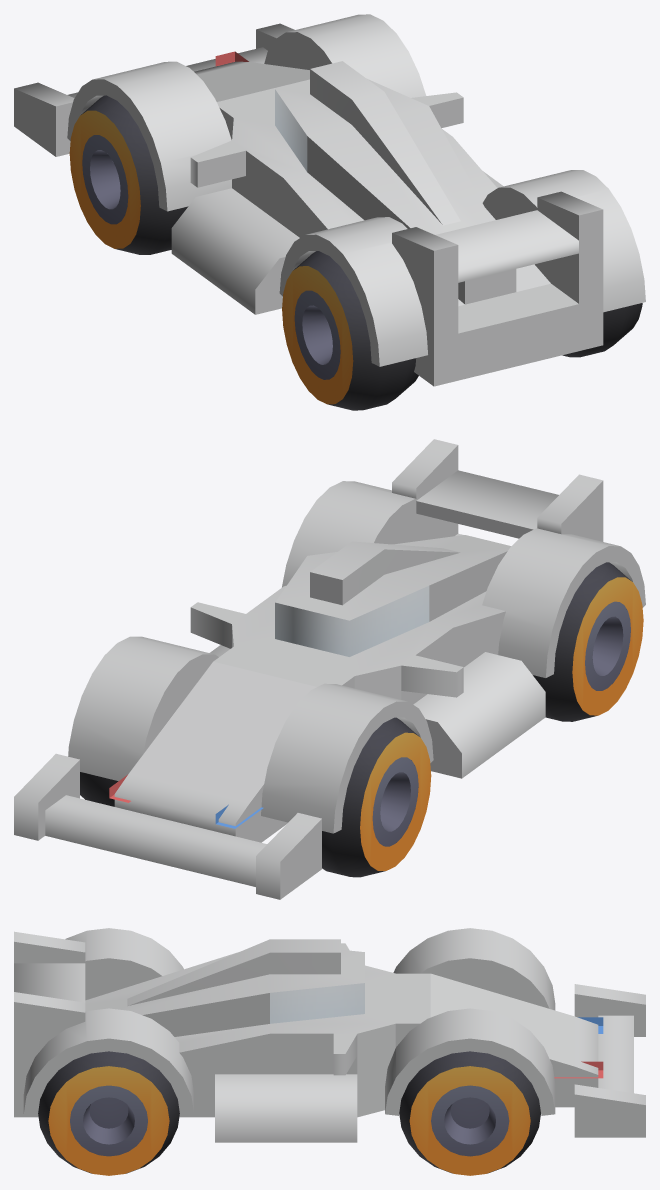
The model's file is storm.glb.
3 views of the same model, one above another, from view 1: azimuth 30°, elevation 25°; view 2: azimuth 150°, elevation 25°; view 3: azimuth 270°, elevation 25° (orthographic). The views are drawn at different scales.
Visible parts, largest first — view 1: body, wheel-back-left, wheel-front-left, wheel-back-right; view 2: body, wheel-front-left, wheel-back-left, wheel-front-right; view 3: body, wheel-front-right, wheel-back-right.
Part boxes in pixels (<box>): body: <box>14,14,645,386</box>; wheel-back-left: <box>282,251,418,410</box>; wheel-front-left: <box>69,95,188,254</box>; wheel-back-right: <box>562,303,642,357</box>; body: <box>14,439,645,899</box>; wheel-front-left: <box>322,717,431,877</box>; wheel-back-left: <box>533,562,643,721</box>; wheel-front-right: <box>80,772,118,806</box>; body: <box>14,928,645,1142</box>; wheel-front-right: <box>399,1051,540,1175</box>; wheel-back-right: <box>38,1051,179,1175</box>.
Size of the model in its own units: 1.38 by 0.9547 by 3.05.
4 materials, 1 textured.
